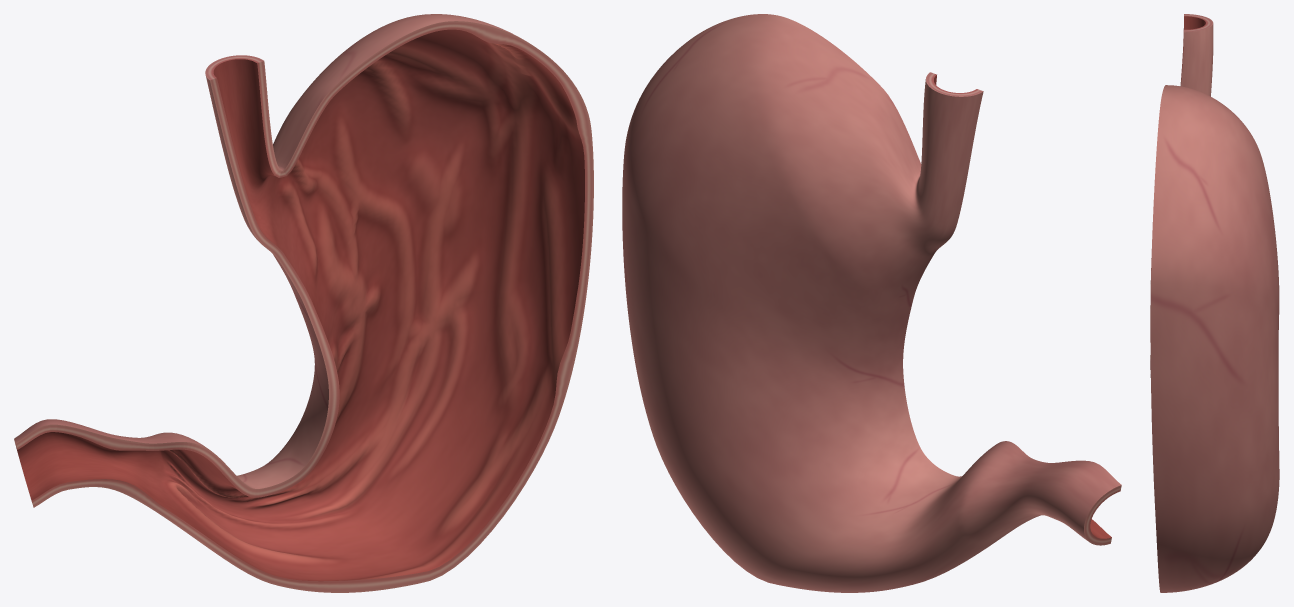
File: opened.glb
The picture shows the model from 3 angles, left to right: view 1: azimuth 30°, elevation 25°; view 2: azimuth 150°, elevation 25°; view 3: azimuth 270°, elevation 25°; orthographic projection. The views are drawn at different scales.
Visible parts, largest first — view 1: Stomach — open anterior wall; view 2: Stomach — open anterior wall; view 3: Stomach — open anterior wall.
Part boxes in pixels (bbox=[...]): Stomach — open anterior wall: bbox=[14, 14, 593, 592]; Stomach — open anterior wall: bbox=[622, 14, 1121, 592]; Stomach — open anterior wall: bbox=[1150, 14, 1279, 592].
Bounding box in the file's own units: 0.1862 × 0.1856 × 0.0437.
Materials: 5 (5 with a texture image).
